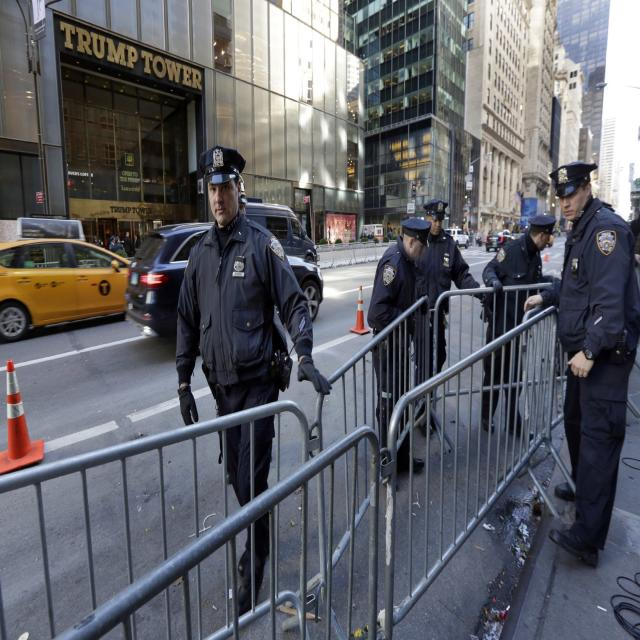body: (168, 142, 335, 633), (519, 154, 640, 572), (363, 215, 436, 496), (475, 210, 560, 442), (412, 196, 486, 437), (5, 244, 99, 270), (235, 172, 254, 214), (462, 227, 494, 248), (362, 228, 392, 240), (110, 236, 124, 261), (506, 224, 534, 236), (412, 179, 423, 207), (110, 235, 126, 253), (123, 231, 133, 258), (552, 224, 566, 236), (134, 233, 140, 254), (92, 236, 101, 247)
